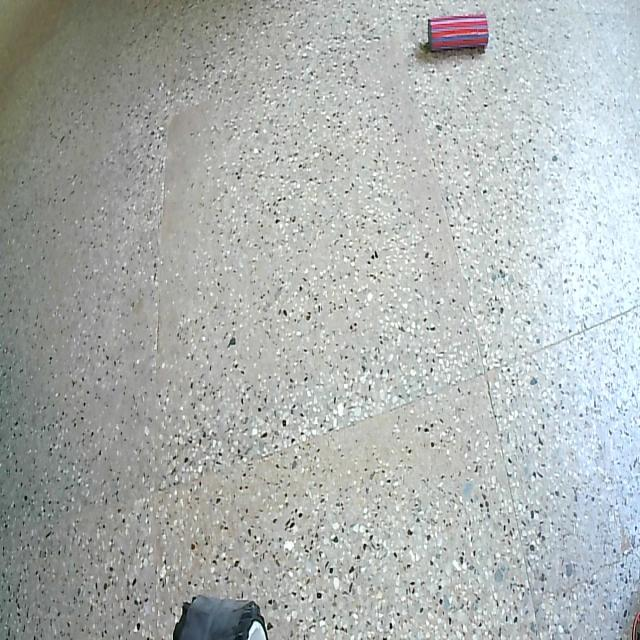cylinder: (427, 9, 490, 66)
